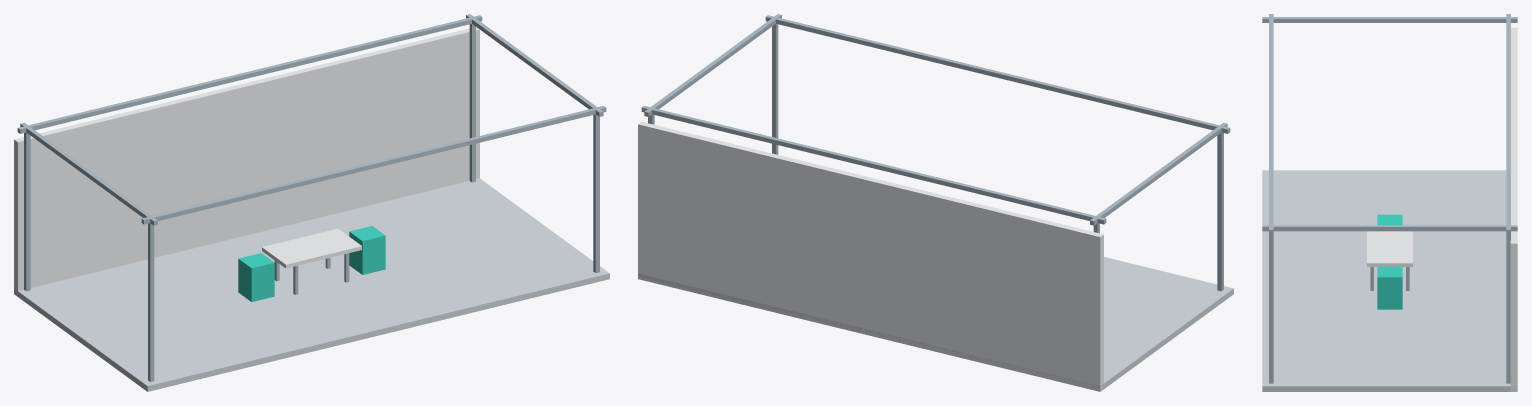
3 views of the same model, side by side, from view 1: azimuth 30°, elevation 25°; view 2: azimuth 150°, elevation 25°; view 3: azimuth 270°, elevation 25° (orthographic). The views are drawn at different scales.
Parts seen in each view (by area): view 1: Exhibition Booth Concept; view 2: Exhibition Booth Concept; view 3: Exhibition Booth Concept.
Part boxes in pixels (x1,y1,x2,y2): Exhibition Booth Concept: [14, 14, 609, 391]; Exhibition Booth Concept: [638, 14, 1233, 391]; Exhibition Booth Concept: [1262, 14, 1517, 391].
Size of the model in its own units: 10 by 3.49 by 5.
